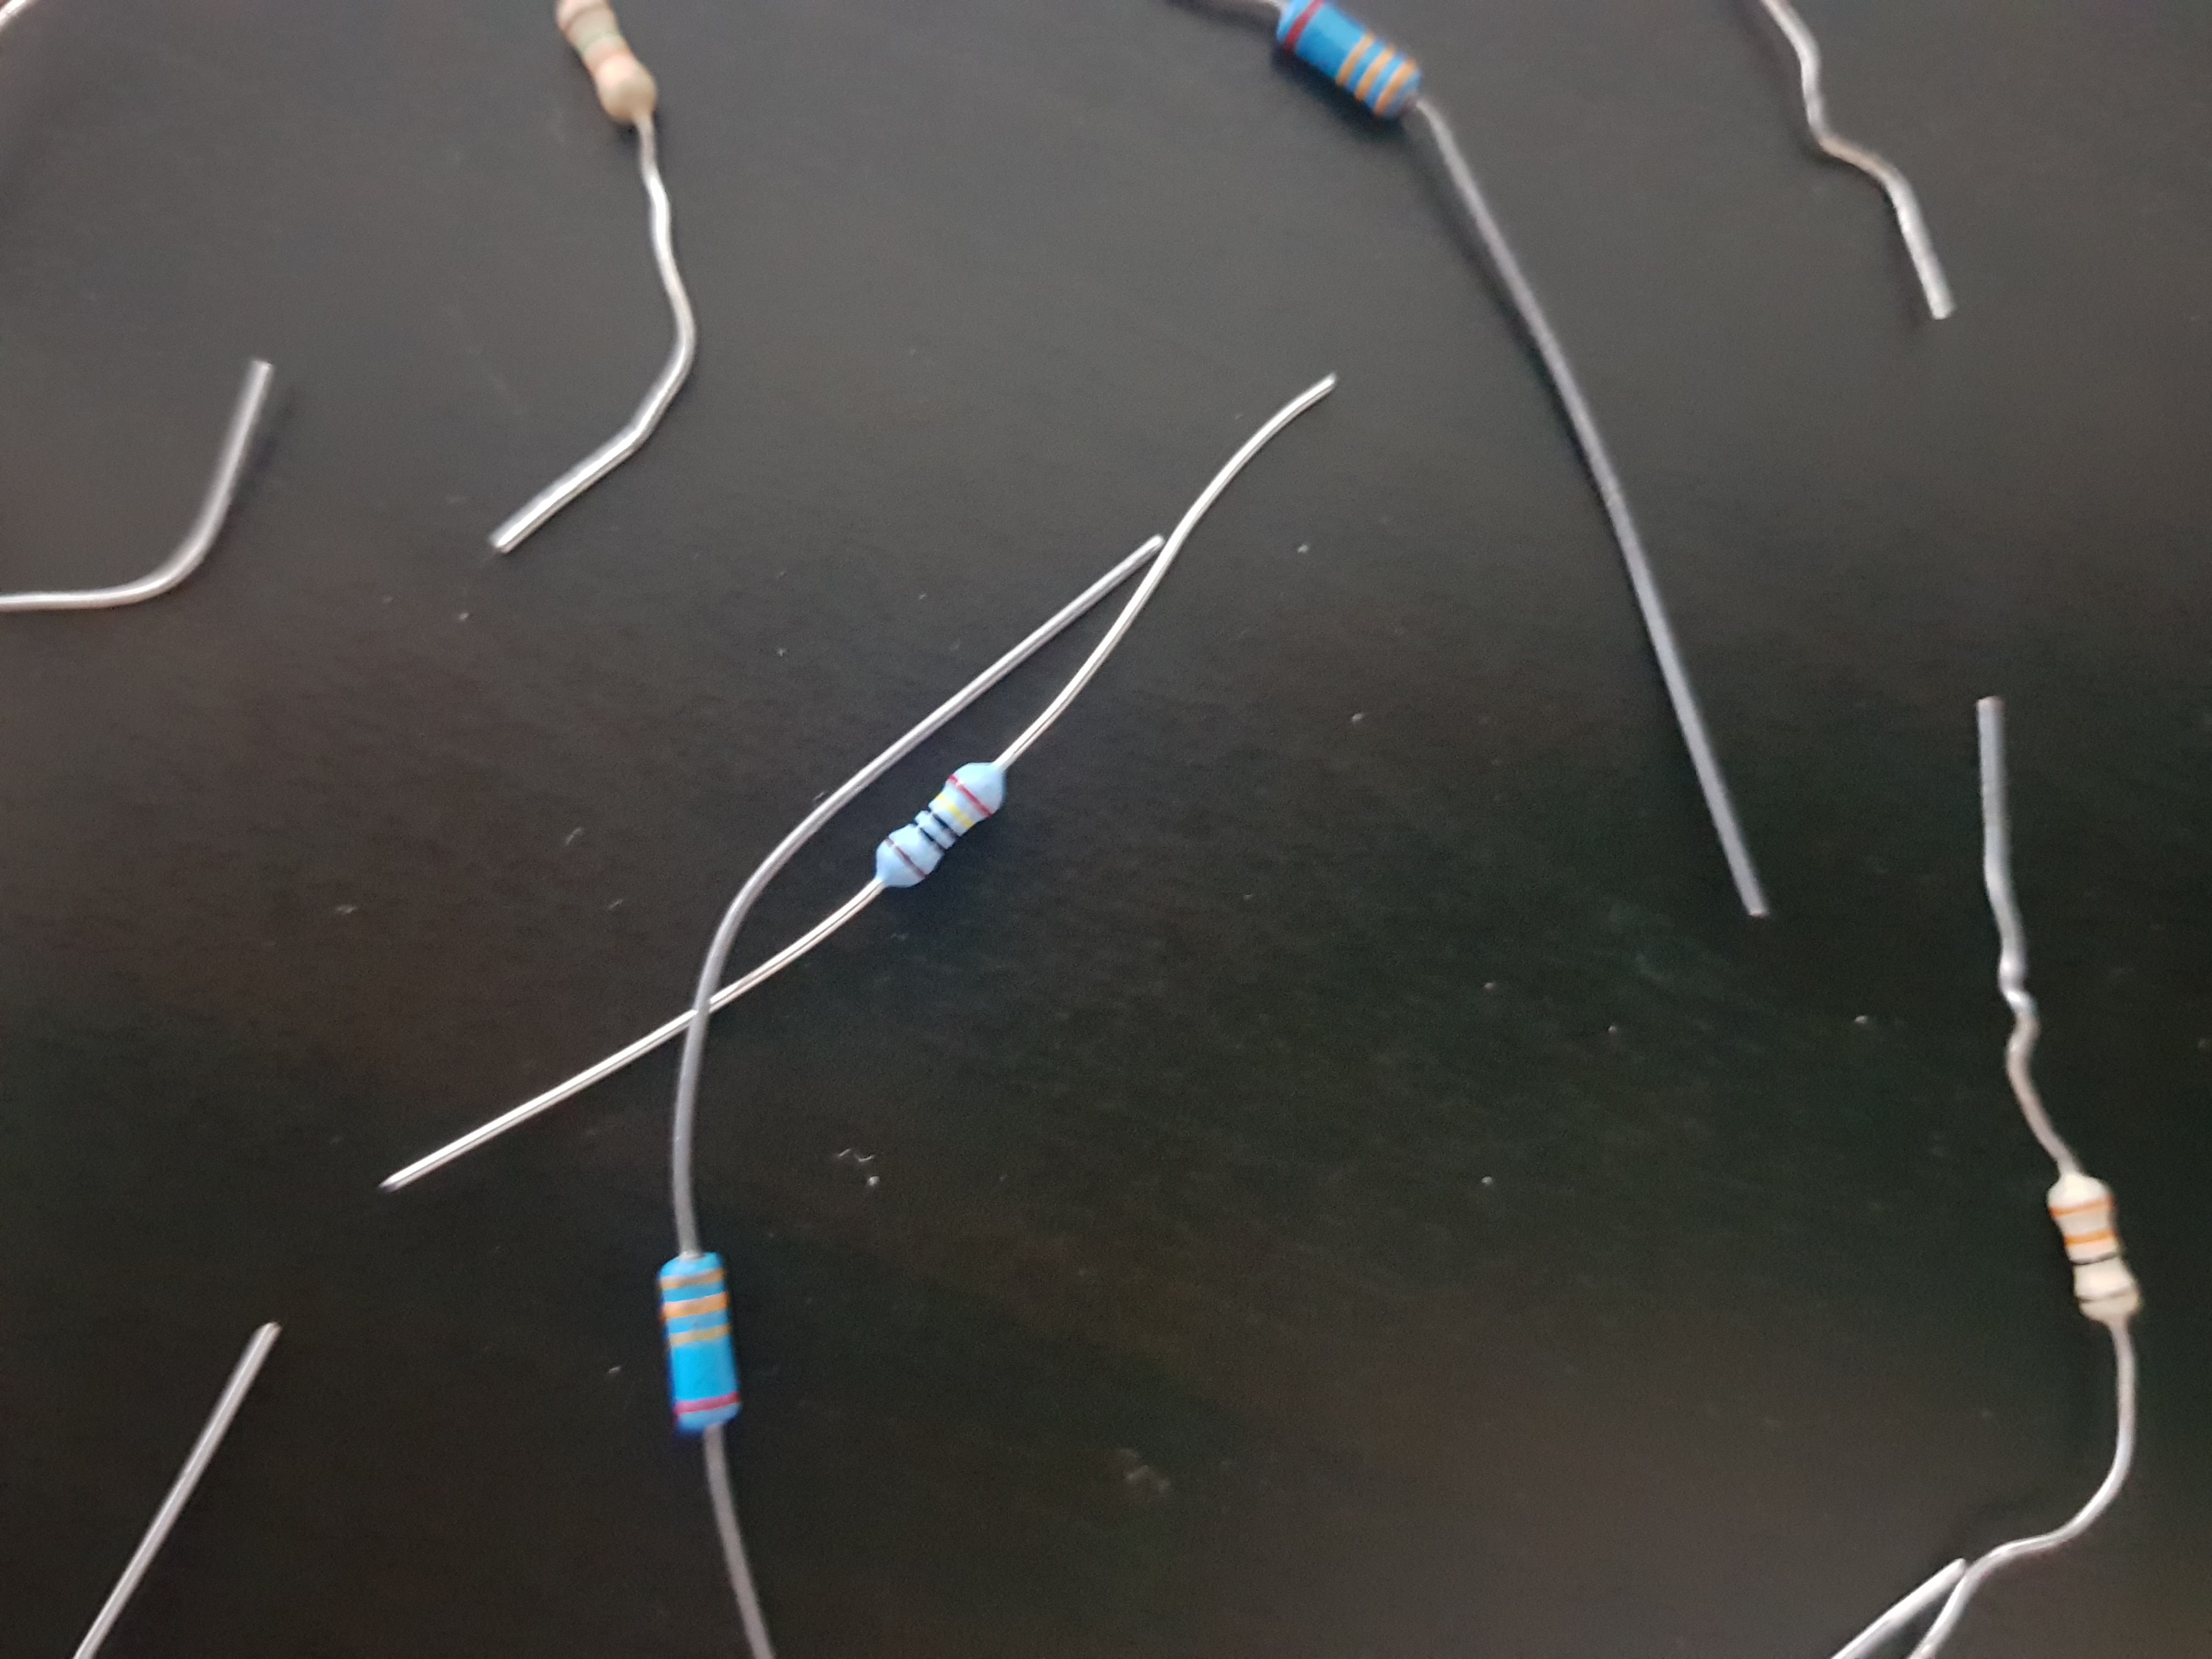resistor: (820, 669, 1062, 985), (1977, 1117, 2203, 1434), (554, 1182, 773, 1507), (1226, 0, 1505, 228), (488, 0, 794, 152)
